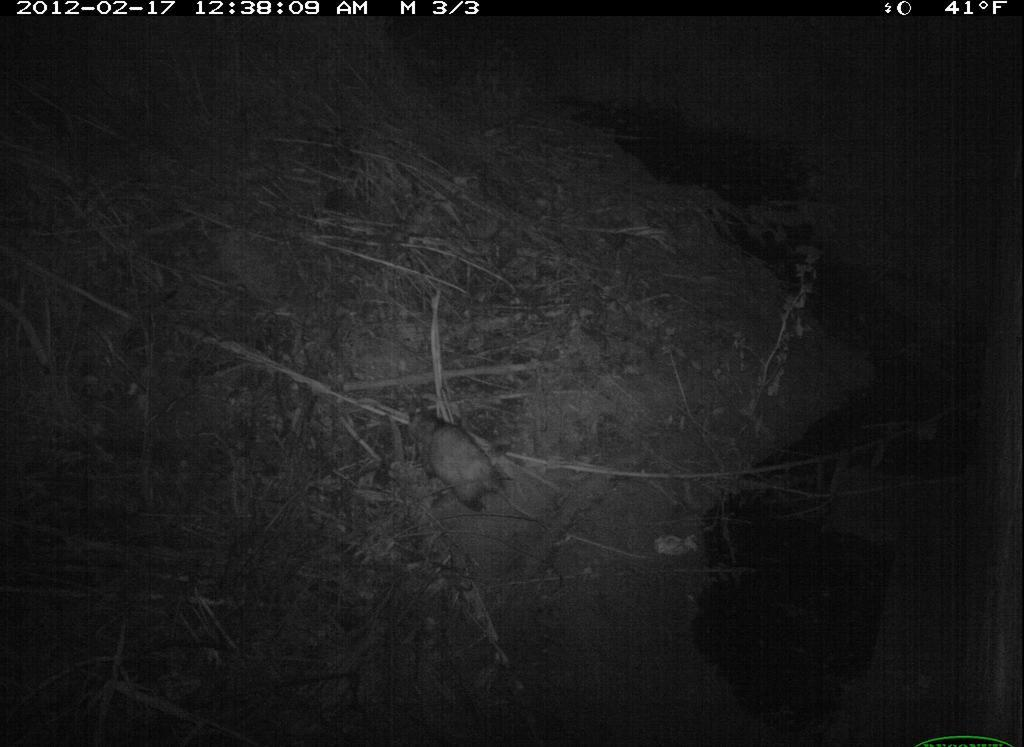opossum: (399, 405, 551, 528)
